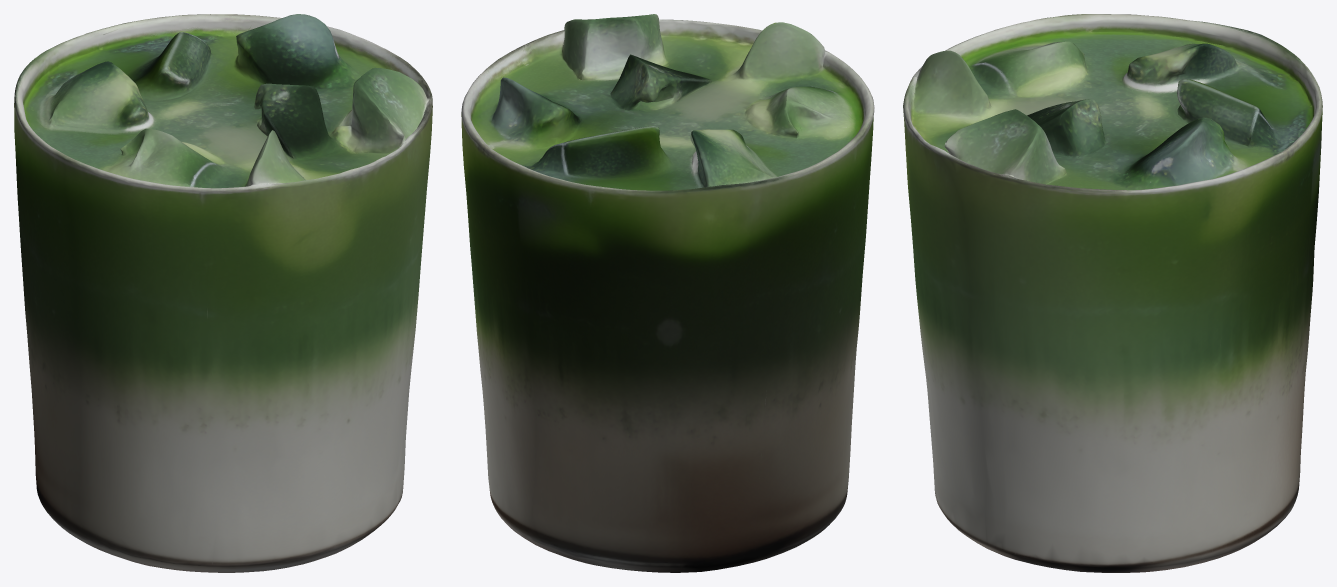
The model's file is iced_matcha.glb.
3 renders of one model, left to right at view 1: azimuth 30°, elevation 25°; view 2: azimuth 150°, elevation 25°; view 3: azimuth 270°, elevation 25°, orthographic.
Visible parts, largest first — view 1: world_0; view 2: world_0; view 3: world_0.
Boxes of the visible parts, bbox=[...] form: world_0: bbox=[14, 14, 432, 572]; world_0: bbox=[461, 14, 874, 572]; world_0: bbox=[903, 14, 1322, 572].
Size of the model in its own units: 0.6745 by 0.7902 by 0.6793.
Materials: 1 (1 with a texture image).
